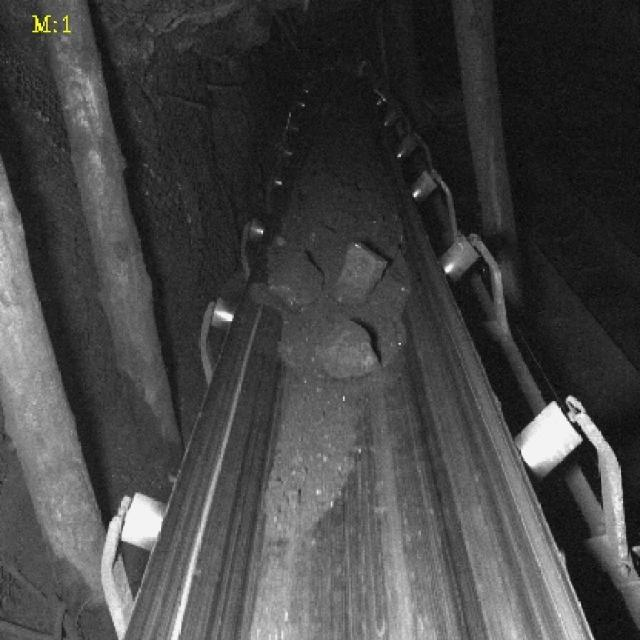large_sized_coal: (317, 317, 380, 377), (270, 254, 324, 309), (340, 243, 389, 300)
